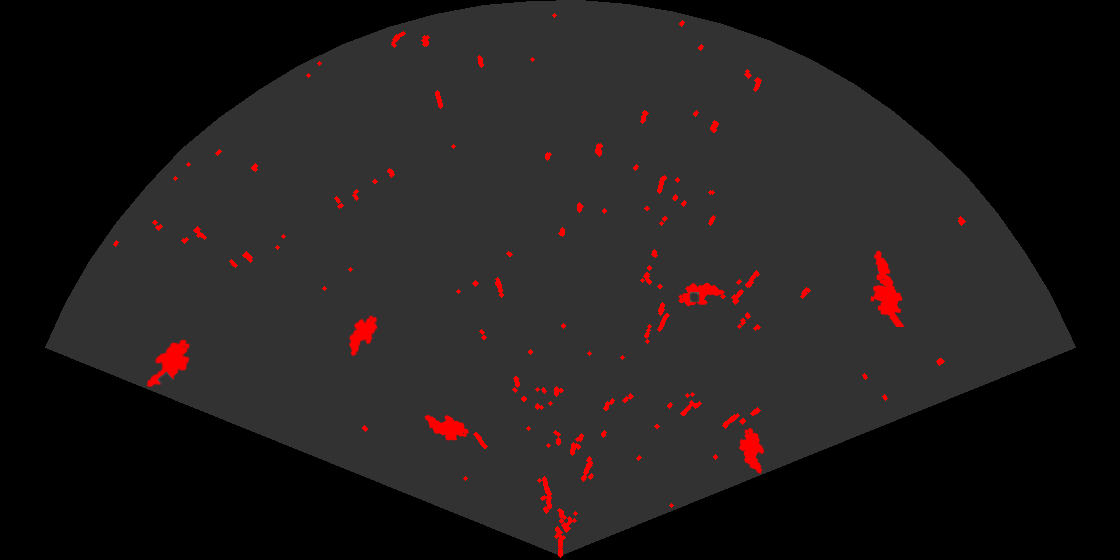AUV: (145, 338, 192, 389), (347, 313, 379, 358), (737, 426, 766, 475), (423, 413, 471, 442), (677, 281, 726, 308)
frogman: (869, 249, 906, 327)
